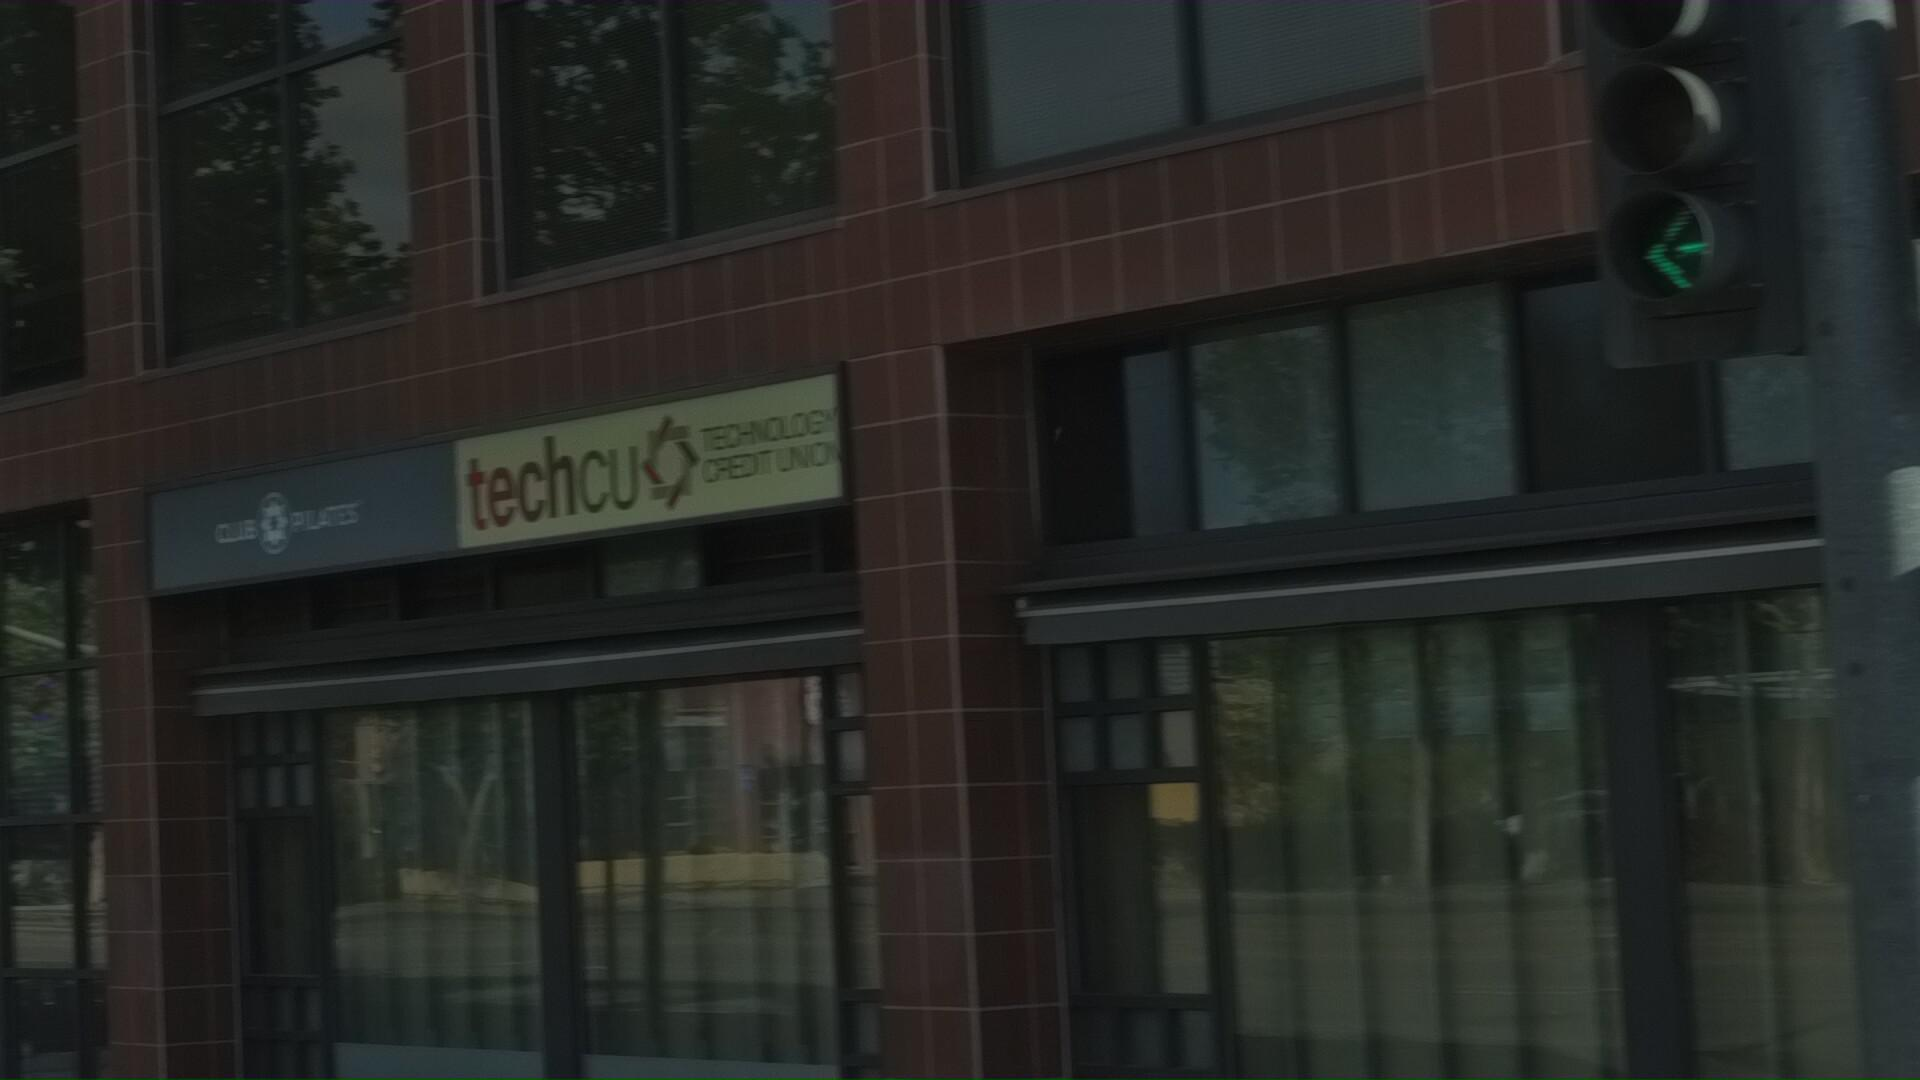car: (0, 884, 146, 1080)
